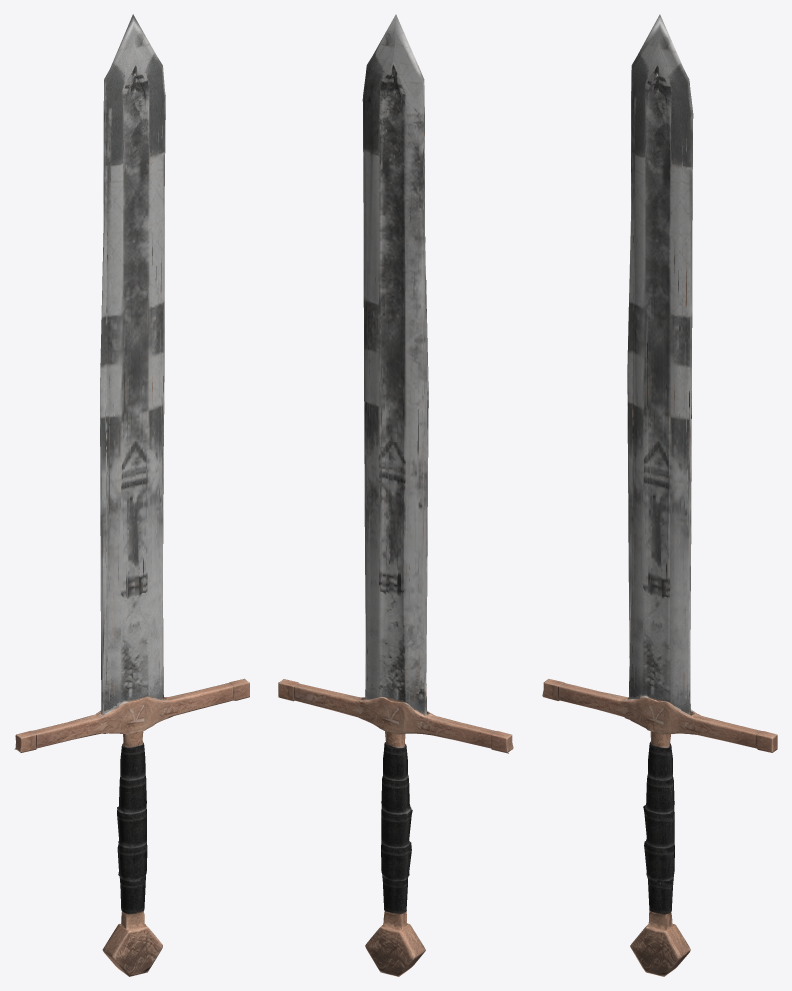
File: rune_greatsword.glb
The picture shows the model from 3 angles, left to right: view 1: azimuth 30°, elevation 25°; view 2: azimuth 150°, elevation 25°; view 3: azimuth 330°, elevation 25°; orthographic projection.
Parts seen in each view (by area): view 1: Soulbound_Rune_Greatsword; view 2: Soulbound_Rune_Greatsword; view 3: Soulbound_Rune_Greatsword.
Boxes of the visible parts, x1=… form: Soulbound_Rune_Greatsword: x1=14, y1=14, x2=249, y2=976; Soulbound_Rune_Greatsword: x1=278, y1=14, x2=513, y2=976; Soulbound_Rune_Greatsword: x1=542, y1=14, x2=777, y2=976.
Size of the model in its own units: 0.2397 by 0.9502 by 0.0229.
Materials: 1 (1 with a texture image).
